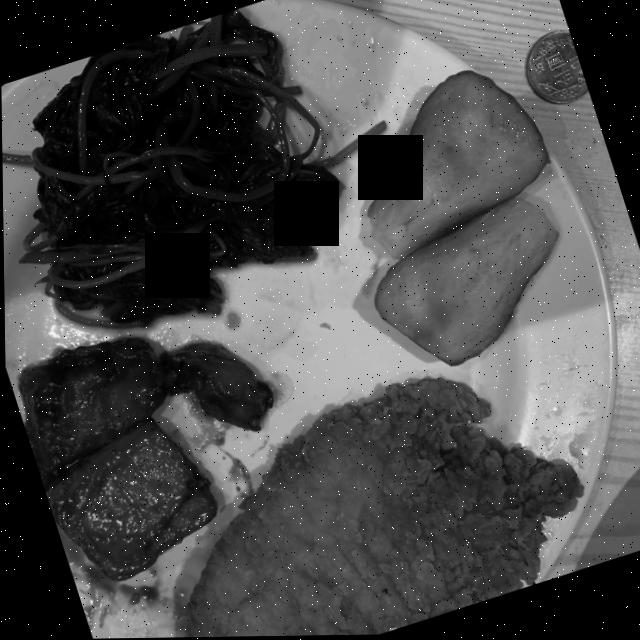coin: (525, 30, 587, 104)
creamy tofu: (17, 337, 271, 580)
fried chicken cutlet: (183, 379, 581, 638)
sweet potato leaves: (2, 8, 382, 328)
